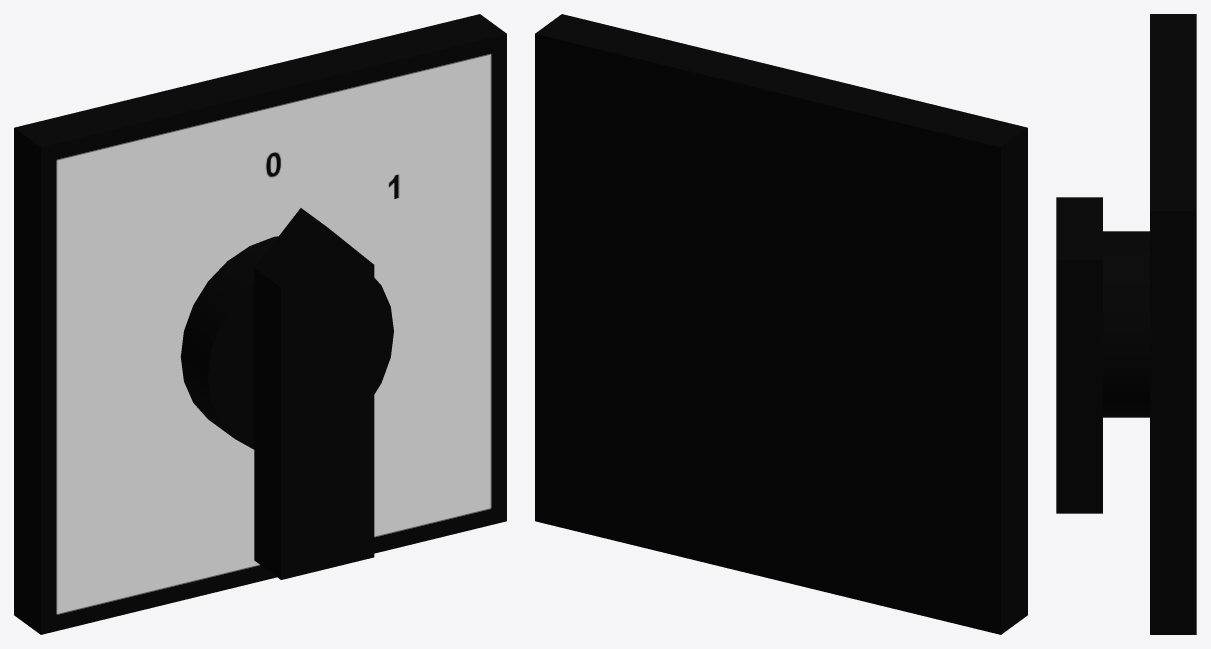
Rendered from Switcher-main.fbx.
3 views of the same model, side by side, from view 1: azimuth 30°, elevation 25°; view 2: azimuth 150°, elevation 25°; view 3: azimuth 270°, elevation 25° (orthographic). The views are drawn at different scales.
Parts seen in each view (by area): view 1: Model; view 2: Model; view 3: Model.
Boxes of the visible parts, x1=… form: Model: x1=14, y1=14, x2=506, y2=634; Model: x1=535, y1=14, x2=1027, y2=634; Model: x1=1056, y1=14, x2=1196, y2=634.
Size of the model in its own units: 0.1 by 0.1 by 0.03.
